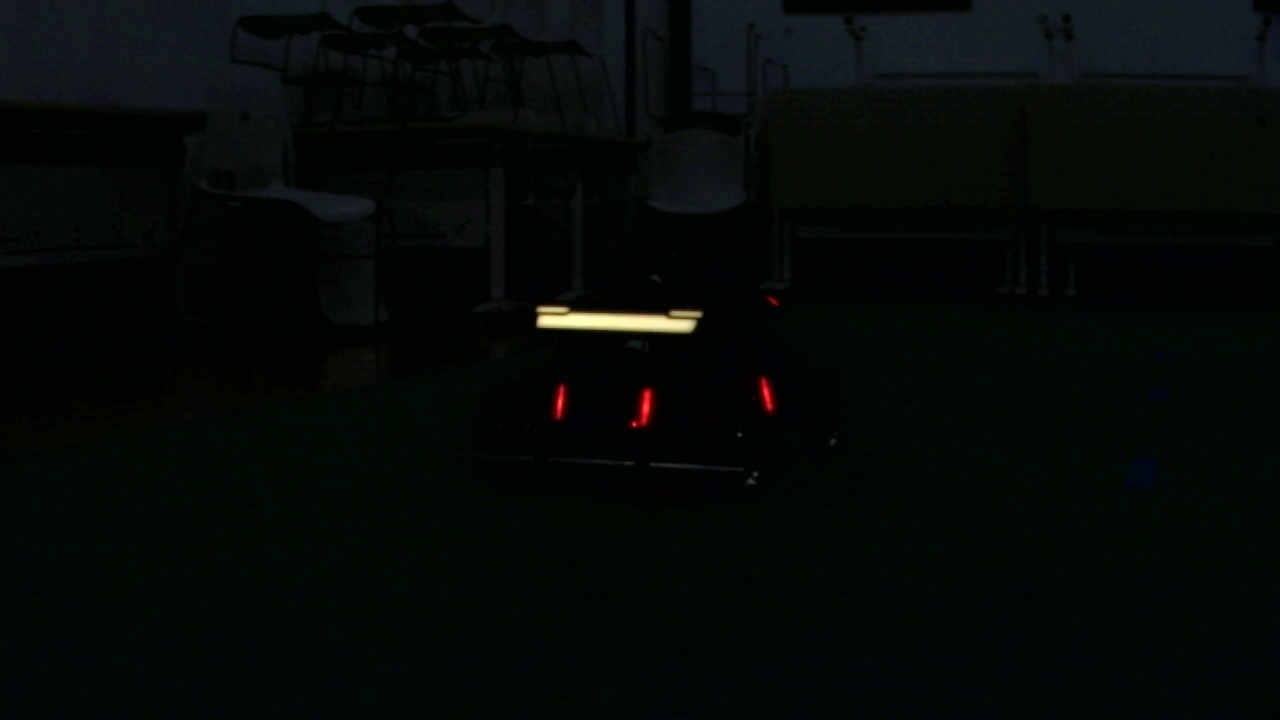lamp: (756, 375, 776, 417), (550, 380, 571, 419), (637, 384, 653, 429)
pair1: (549, 381, 652, 421)
